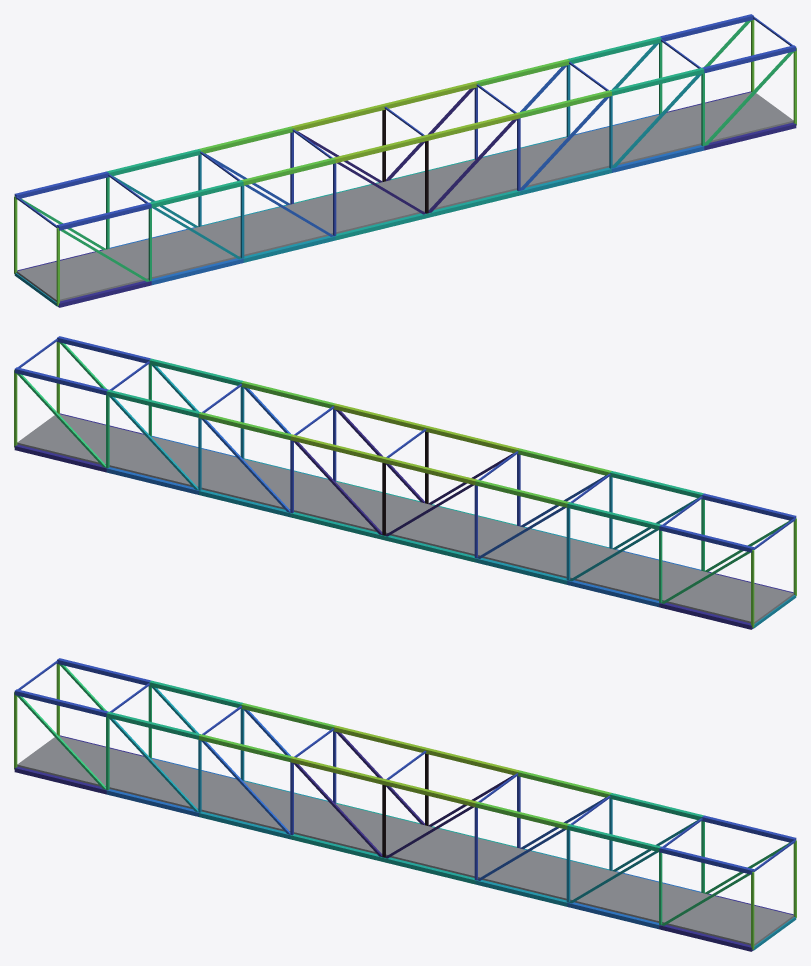
File: 30_3_8_HEA200.glb
3 renders of one model, top to bottom at view 1: azimuth 30°, elevation 25°; view 2: azimuth 150°, elevation 25°; view 3: azimuth 330°, elevation 25°, orthographic.
Bounding box in the file's own units: 30.09 × 3.16 × 3.16.
